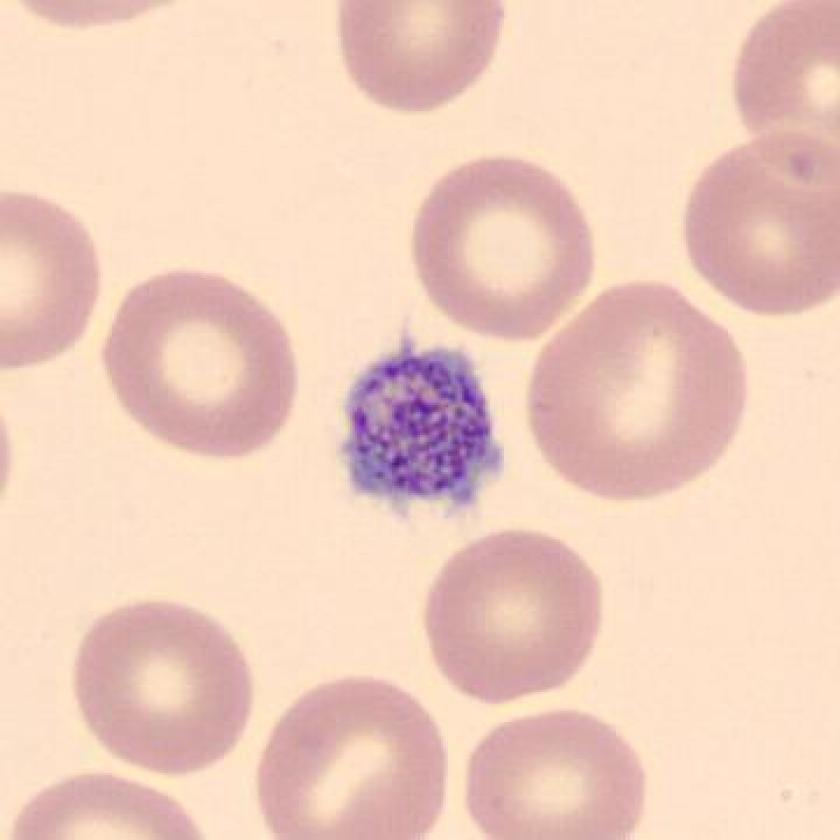platelets: (330, 330, 517, 529)
